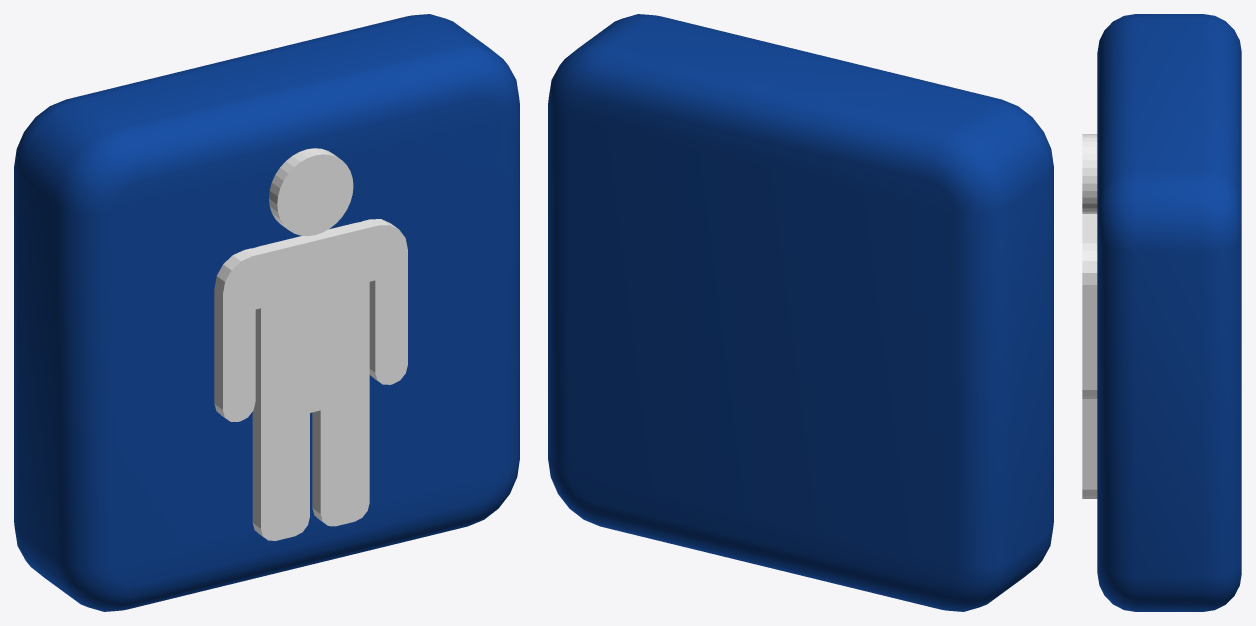
The model's file is mens_room.glb.
3 renders of one model, left to right at view 1: azimuth 30°, elevation 25°; view 2: azimuth 150°, elevation 25°; view 3: azimuth 270°, elevation 25°, orthographic. The views are drawn at different scales.
Parts seen in each view (by area): view 1: Cube.124; view 2: Cube.124; view 3: Cube.124.
Boxes of the visible parts, x1,y1,x2,y2 form: Cube.124: (14, 14, 519, 611); Cube.124: (548, 14, 1053, 611); Cube.124: (1082, 14, 1241, 611).
Size of the model in its own units: 2.2 by 2.2 by 0.7298.
1 material, 1 textured.
